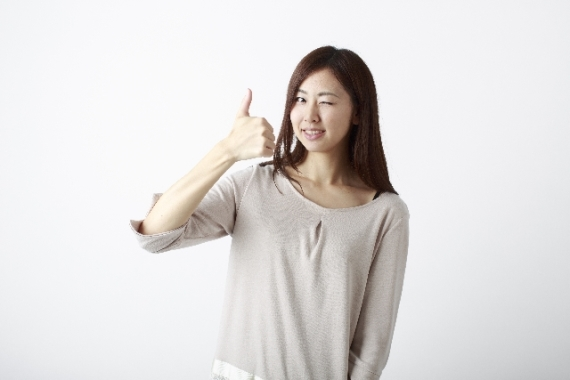face: (289, 67, 353, 152)
hand: (227, 87, 275, 164)
